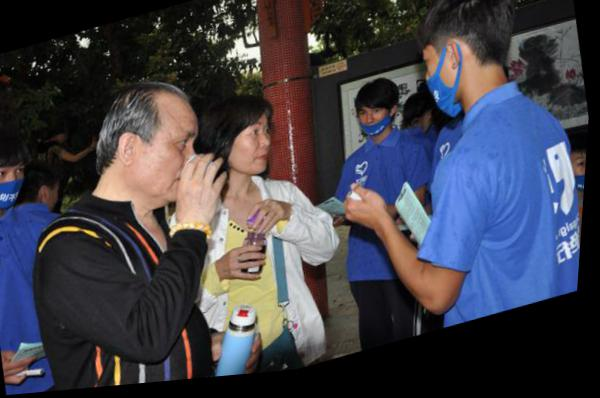NONE: (113, 97, 219, 218), (222, 117, 282, 187)
OK: (1, 152, 37, 211)
WRONG: (417, 42, 476, 136), (356, 98, 405, 148)
